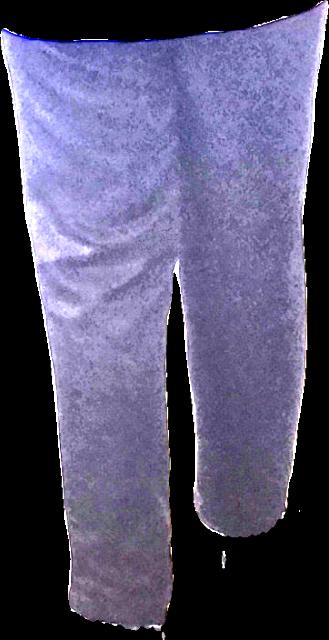blackpants: (0, 0, 328, 630)
